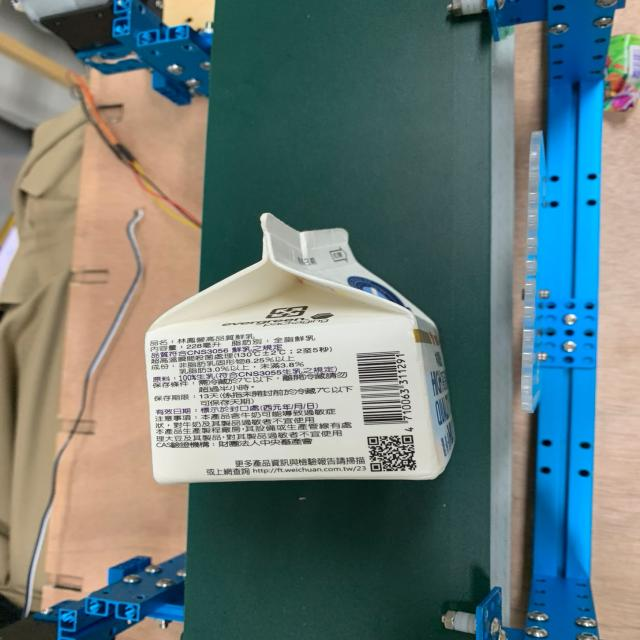non_white_jug: (89, 198, 498, 500)
